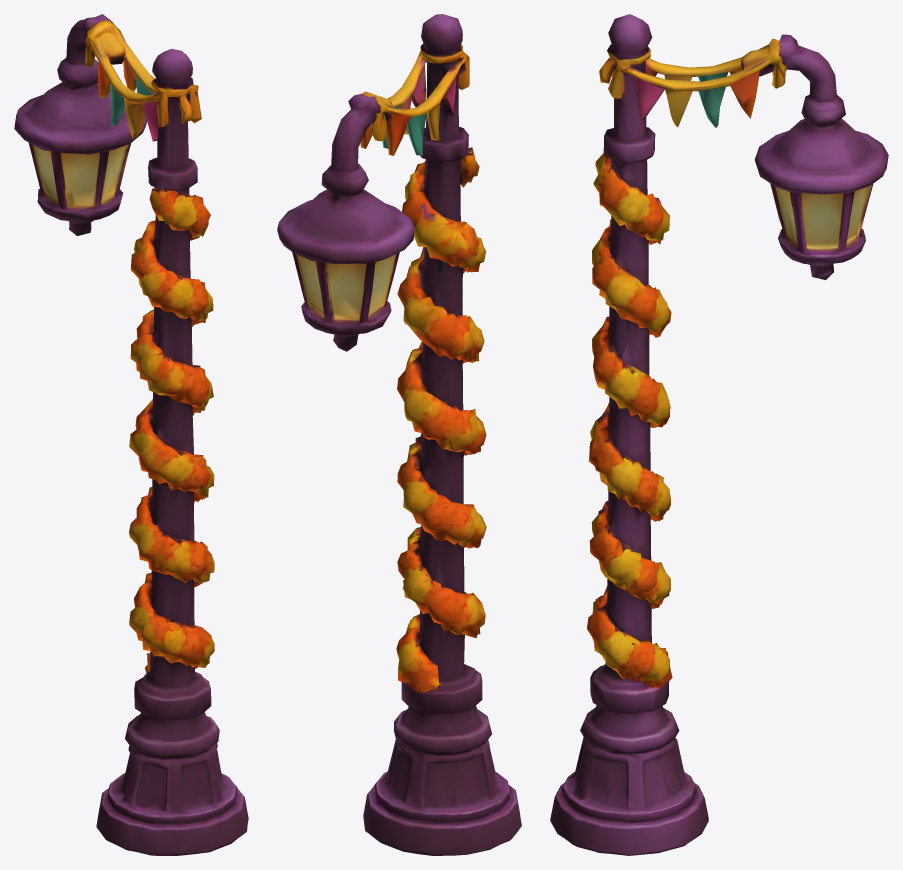
The model's file is street-lamp-garland.glb.
3 views of the same model, side by side, from view 1: azimuth 30°, elevation 25°; view 2: azimuth 150°, elevation 25°; view 3: azimuth 270°, elevation 25° (orthographic). The views are drawn at different scales.
Visible parts, largest first — view 1: tripo_node_decfe6b9-e38a-4c8f-93e0-6645e65b9c18; view 2: tripo_node_decfe6b9-e38a-4c8f-93e0-6645e65b9c18; view 3: tripo_node_decfe6b9-e38a-4c8f-93e0-6645e65b9c18.
Boxes of the visible parts, box(x1,y1,x2,y2) form: tripo_node_decfe6b9-e38a-4c8f-93e0-6645e65b9c18: box(14, 14, 248, 855); tripo_node_decfe6b9-e38a-4c8f-93e0-6645e65b9c18: box(277, 14, 521, 855); tripo_node_decfe6b9-e38a-4c8f-93e0-6645e65b9c18: box(550, 14, 888, 855).
Size of the model in its own units: 0.1804 by 1 by 0.3794.
Materials: 1 (1 with a texture image).
